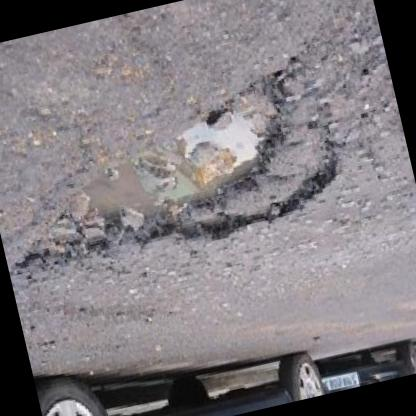pothole: (0, 47, 352, 291)
